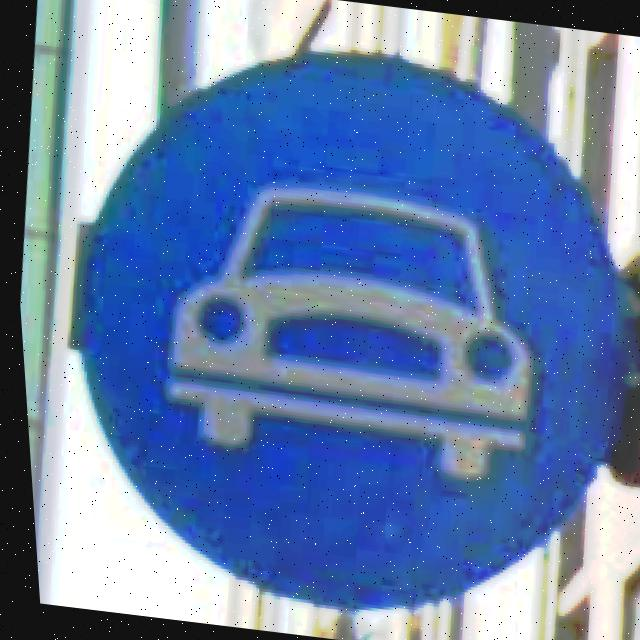car: (16, 10, 640, 640)
